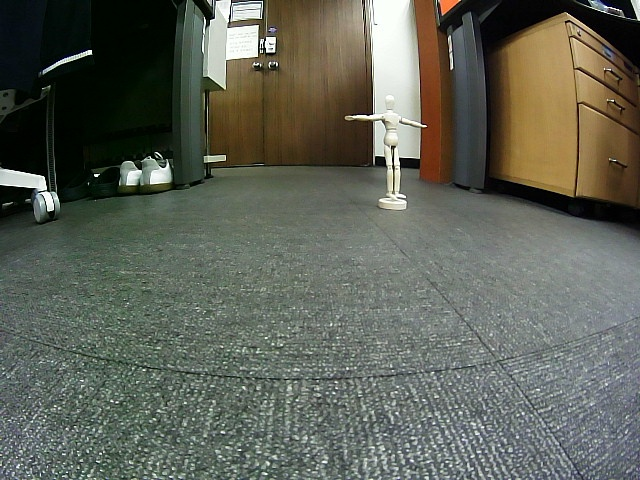person: (345, 95, 428, 202)
